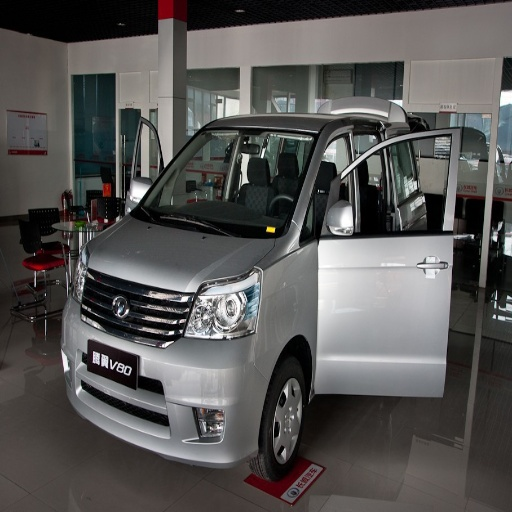front_bumper: (65, 280, 279, 468)
front_glass: (131, 128, 319, 236)
front_left_door: (310, 129, 443, 391)
